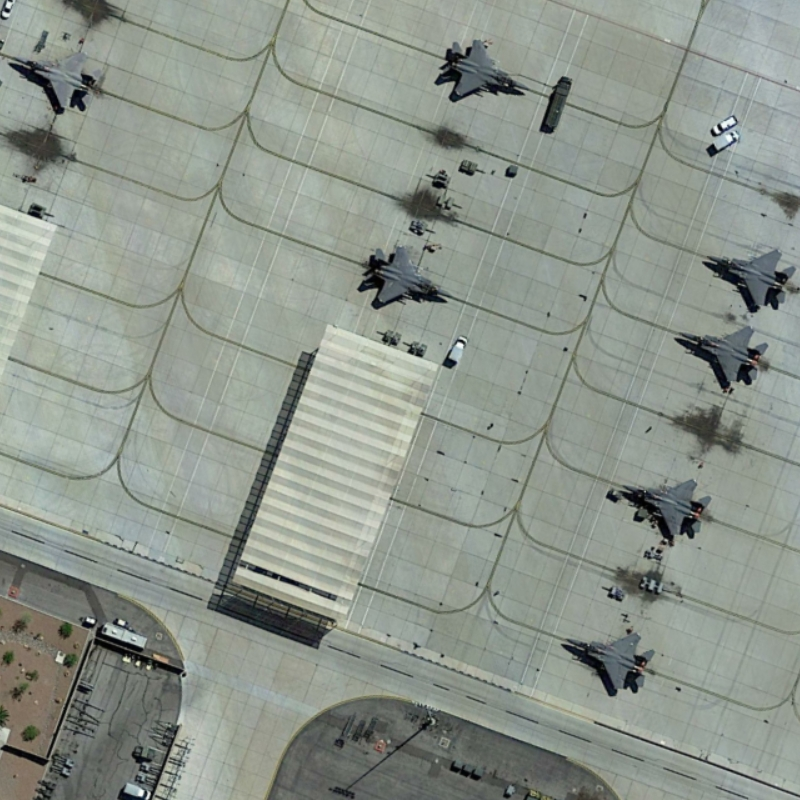A13: (1, 32, 112, 118), (555, 627, 665, 704), (359, 236, 459, 317), (700, 234, 797, 317), (431, 28, 533, 105), (671, 322, 774, 398), (615, 471, 716, 547)
